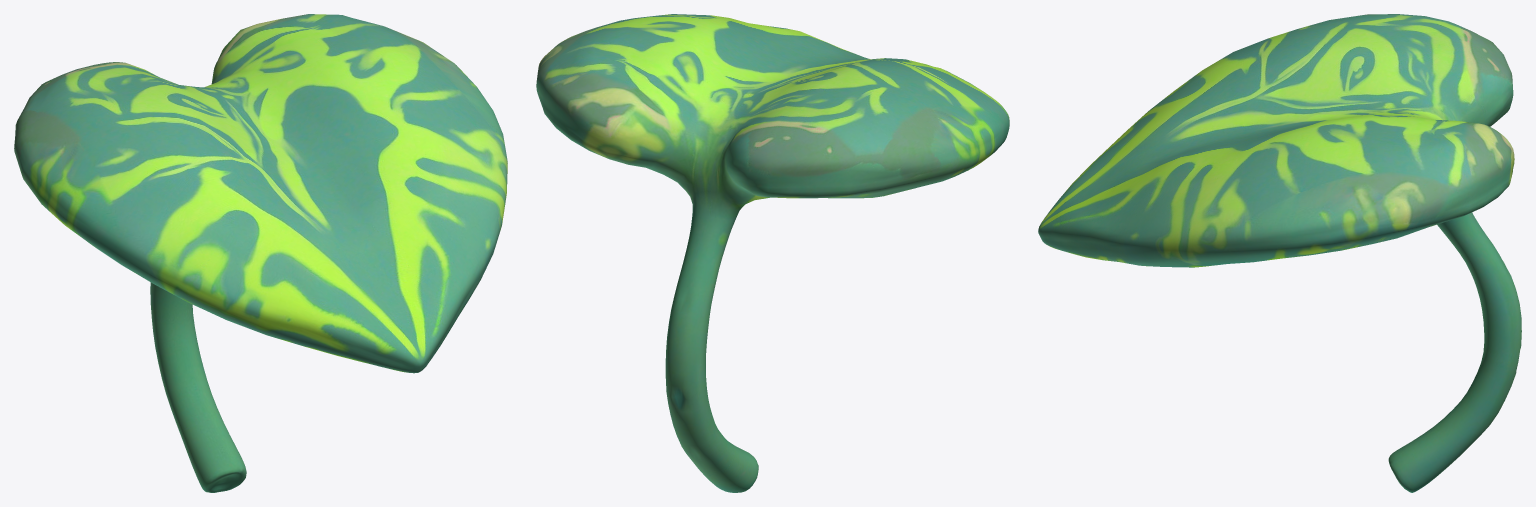
The model's file is pothos_marble_greenyellow_v1.glb.
3 views of the same model, side by side, from view 1: azimuth 30°, elevation 25°; view 2: azimuth 150°, elevation 25°; view 3: azimuth 270°, elevation 25° (orthographic). The views are drawn at different scales.
Parts seen in each view (by area): view 1: world; view 2: world; view 3: world.
Boxes of the visible parts, x1,y1,x2,y2 form: world: (14, 14, 507, 492); world: (536, 14, 1009, 492); world: (1038, 14, 1521, 492).
Size of the model in its own units: 1.93 by 1.86 by 2.
1 material, 1 textured.
